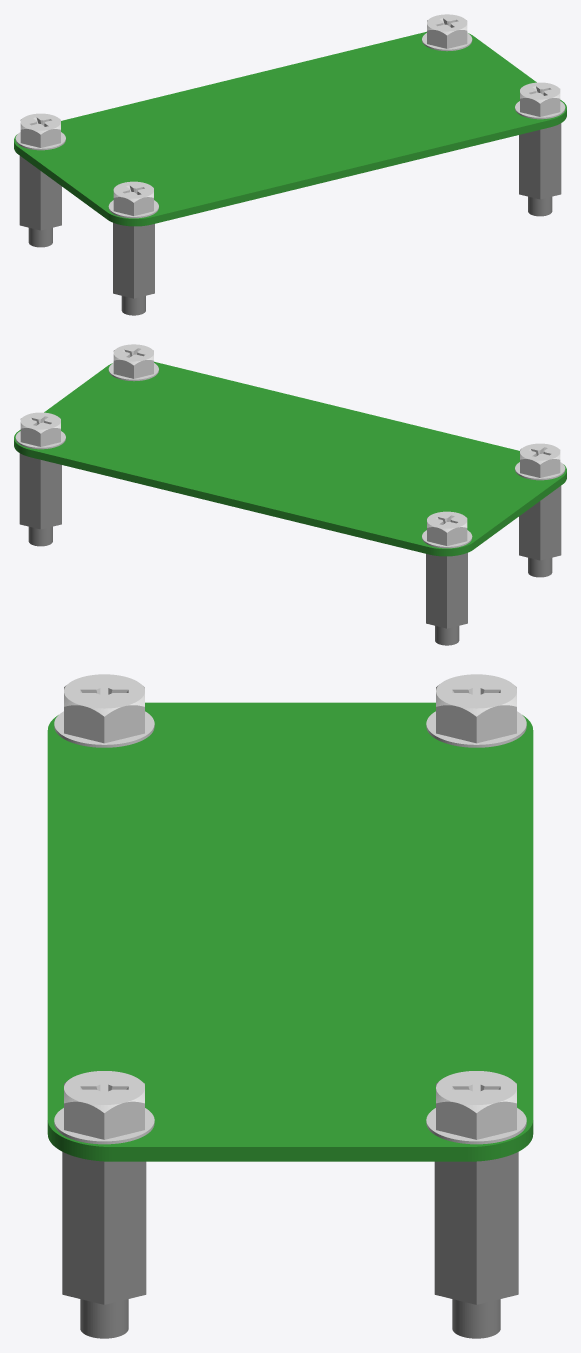
The picture shows the model from 3 angles, top to bottom: view 1: azimuth 30°, elevation 25°; view 2: azimuth 150°, elevation 25°; view 3: azimuth 270°, elevation 25°; orthographic projection. The views are drawn at different scales.
Visible parts, largest first — view 1: out-board, out-standoff_001, out-standoff_000, out-standoff_003, out-screw_003, out-screw_000, out-screw_001, out-screw_002; view 2: out-board, out-standoff_003, out-standoff_002, out-standoff_001, out-screw_001, out-screw_002, out-screw_003, out-screw_000; view 3: out-board, out-standoff_002, out-standoff_000, out-screw_001, out-screw_003, out-screw_000, out-screw_002.
Part boxes in pixels (x1,y1,x2,y2): out-board: (14,31,566,226); out-standoff_001: (113,223,154,315); out-standoff_000: (519,123,561,216); out-standoff_003: (19,156,61,247); out-screw_003: (15,113,65,150); out-screw_000: (515,82,565,119); out-screw_001: (108,181,158,218); out-screw_002: (422,14,472,51); out-board: (14,361,566,556); out-standoff_003: (426,553,467,645); out-standoff_002: (19,453,61,546); out-standoff_001: (519,486,561,577); out-screw_001: (515,443,565,480); out-screw_002: (15,412,65,449); out-screw_003: (422,511,472,548); out-screw_000: (108,344,158,381); out-board: (47,702,533,1161); out-standoff_002: (434,1152,518,1338); out-standoff_000: (62,1152,146,1338); out-screw_001: (54,674,154,747); out-screw_003: (426,674,526,747); out-screw_000: (54,1071,154,1144); out-screw_002: (426,1071,526,1144).
Size of the model in its own units: 0.065 by 0.0164 by 0.03.
